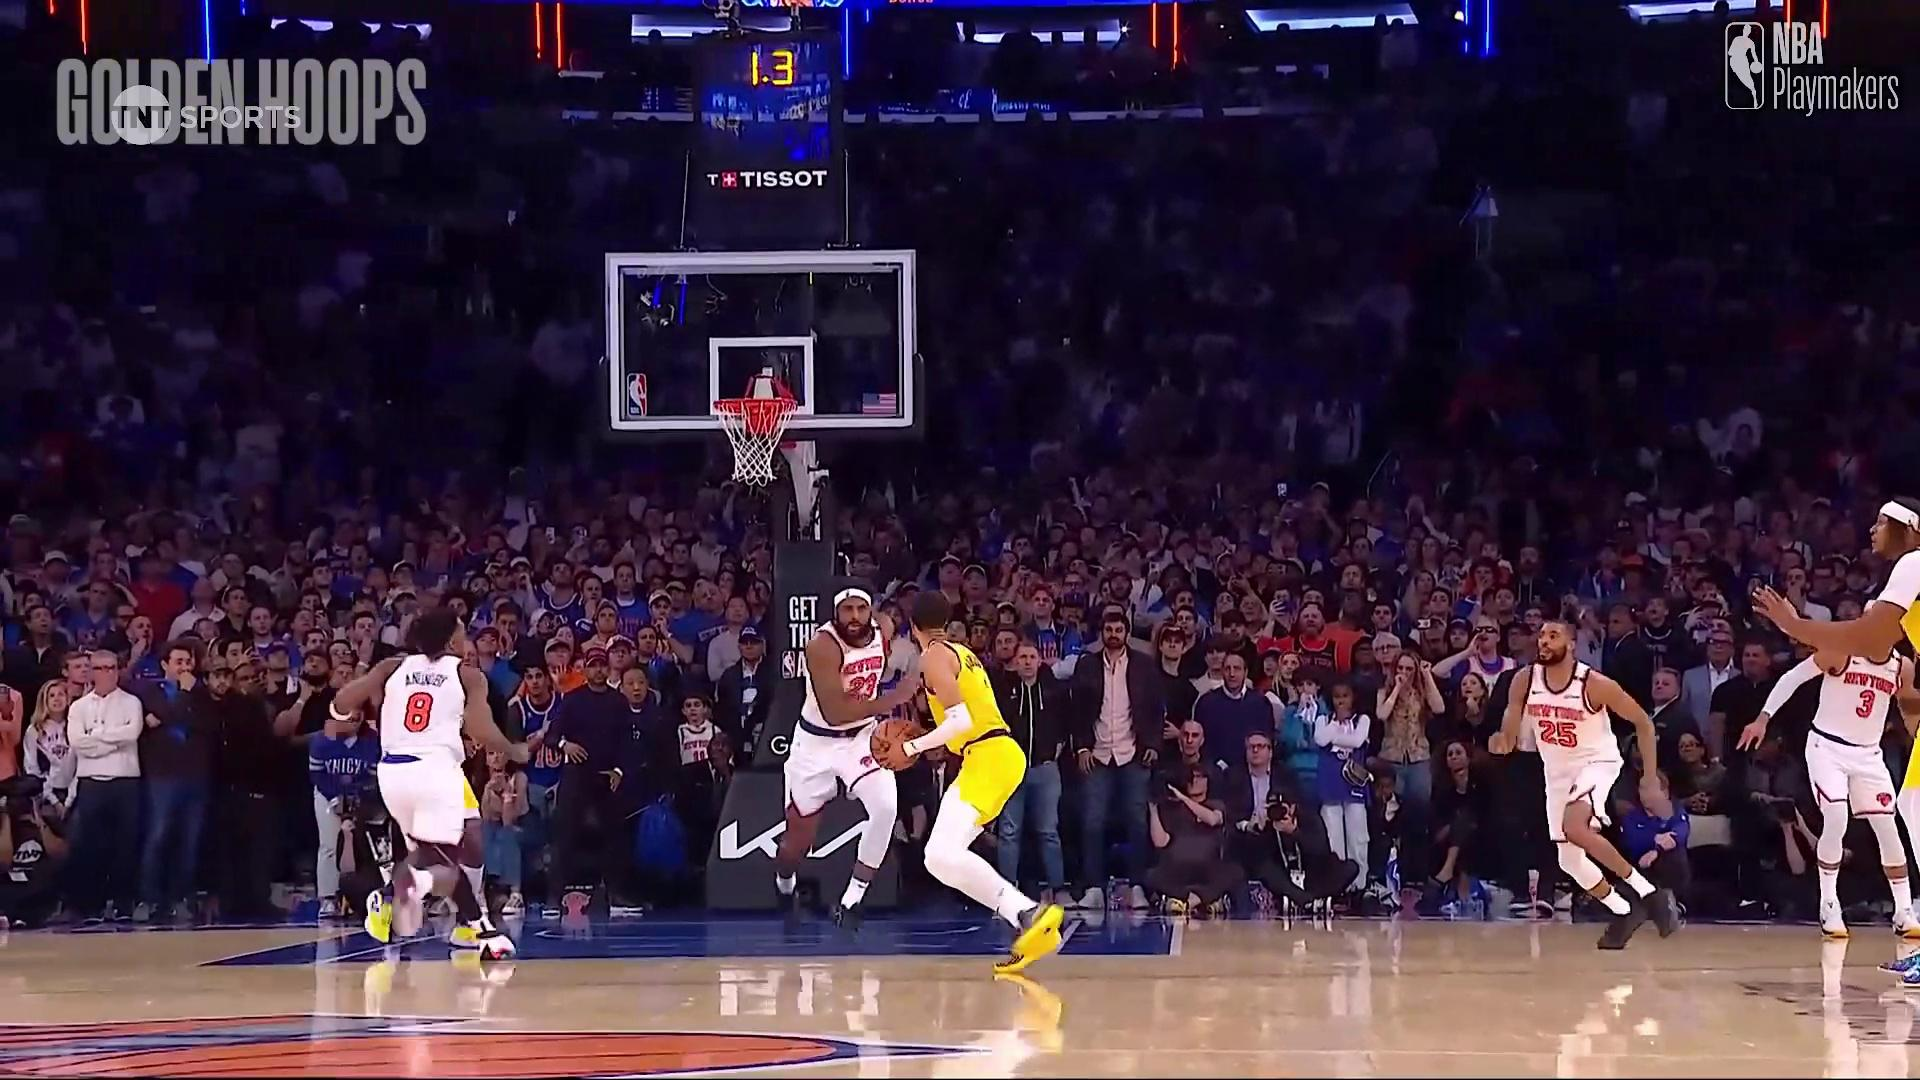ball: (868, 719, 924, 774)
hoop: (702, 386, 807, 493)
